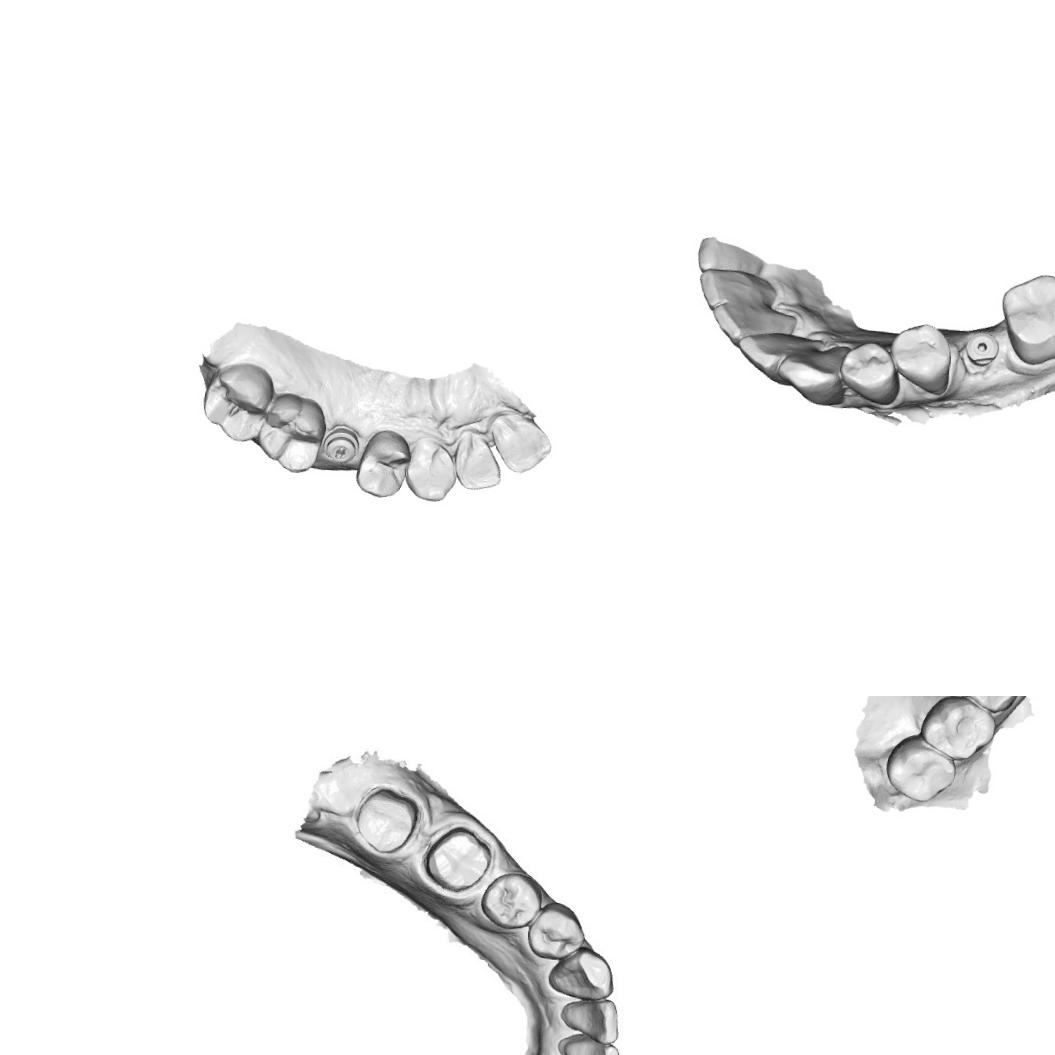canine: (773, 336, 848, 410), (545, 944, 618, 1008), (402, 432, 460, 504)
crown: (418, 822, 495, 896), (351, 782, 424, 858)
implant: (962, 328, 1000, 368)
implant_minus: (320, 422, 361, 465)
incisor: (734, 326, 822, 382), (708, 299, 796, 352), (486, 408, 554, 476), (696, 265, 776, 318), (694, 230, 770, 280), (554, 994, 623, 1046), (452, 426, 504, 493), (549, 1033, 620, 1055)
molar: (200, 358, 276, 444), (255, 388, 329, 474), (994, 266, 1055, 369), (882, 730, 958, 803), (916, 696, 997, 763)
premolar: (886, 320, 956, 396), (834, 336, 902, 408), (353, 426, 414, 499), (480, 873, 540, 931), (527, 905, 583, 962), (952, 696, 1022, 714)
